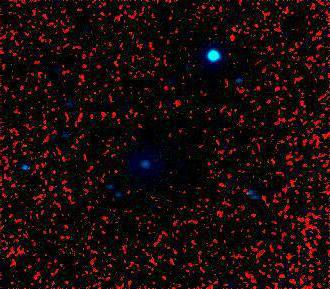star: (58, 91, 88, 121)
